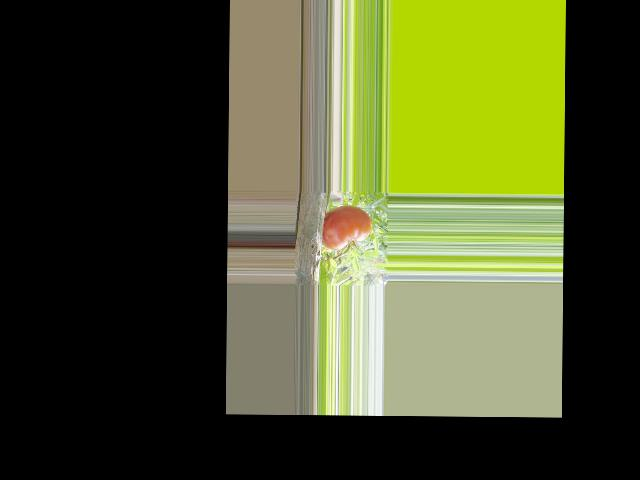tomato: (321, 206, 372, 250)
